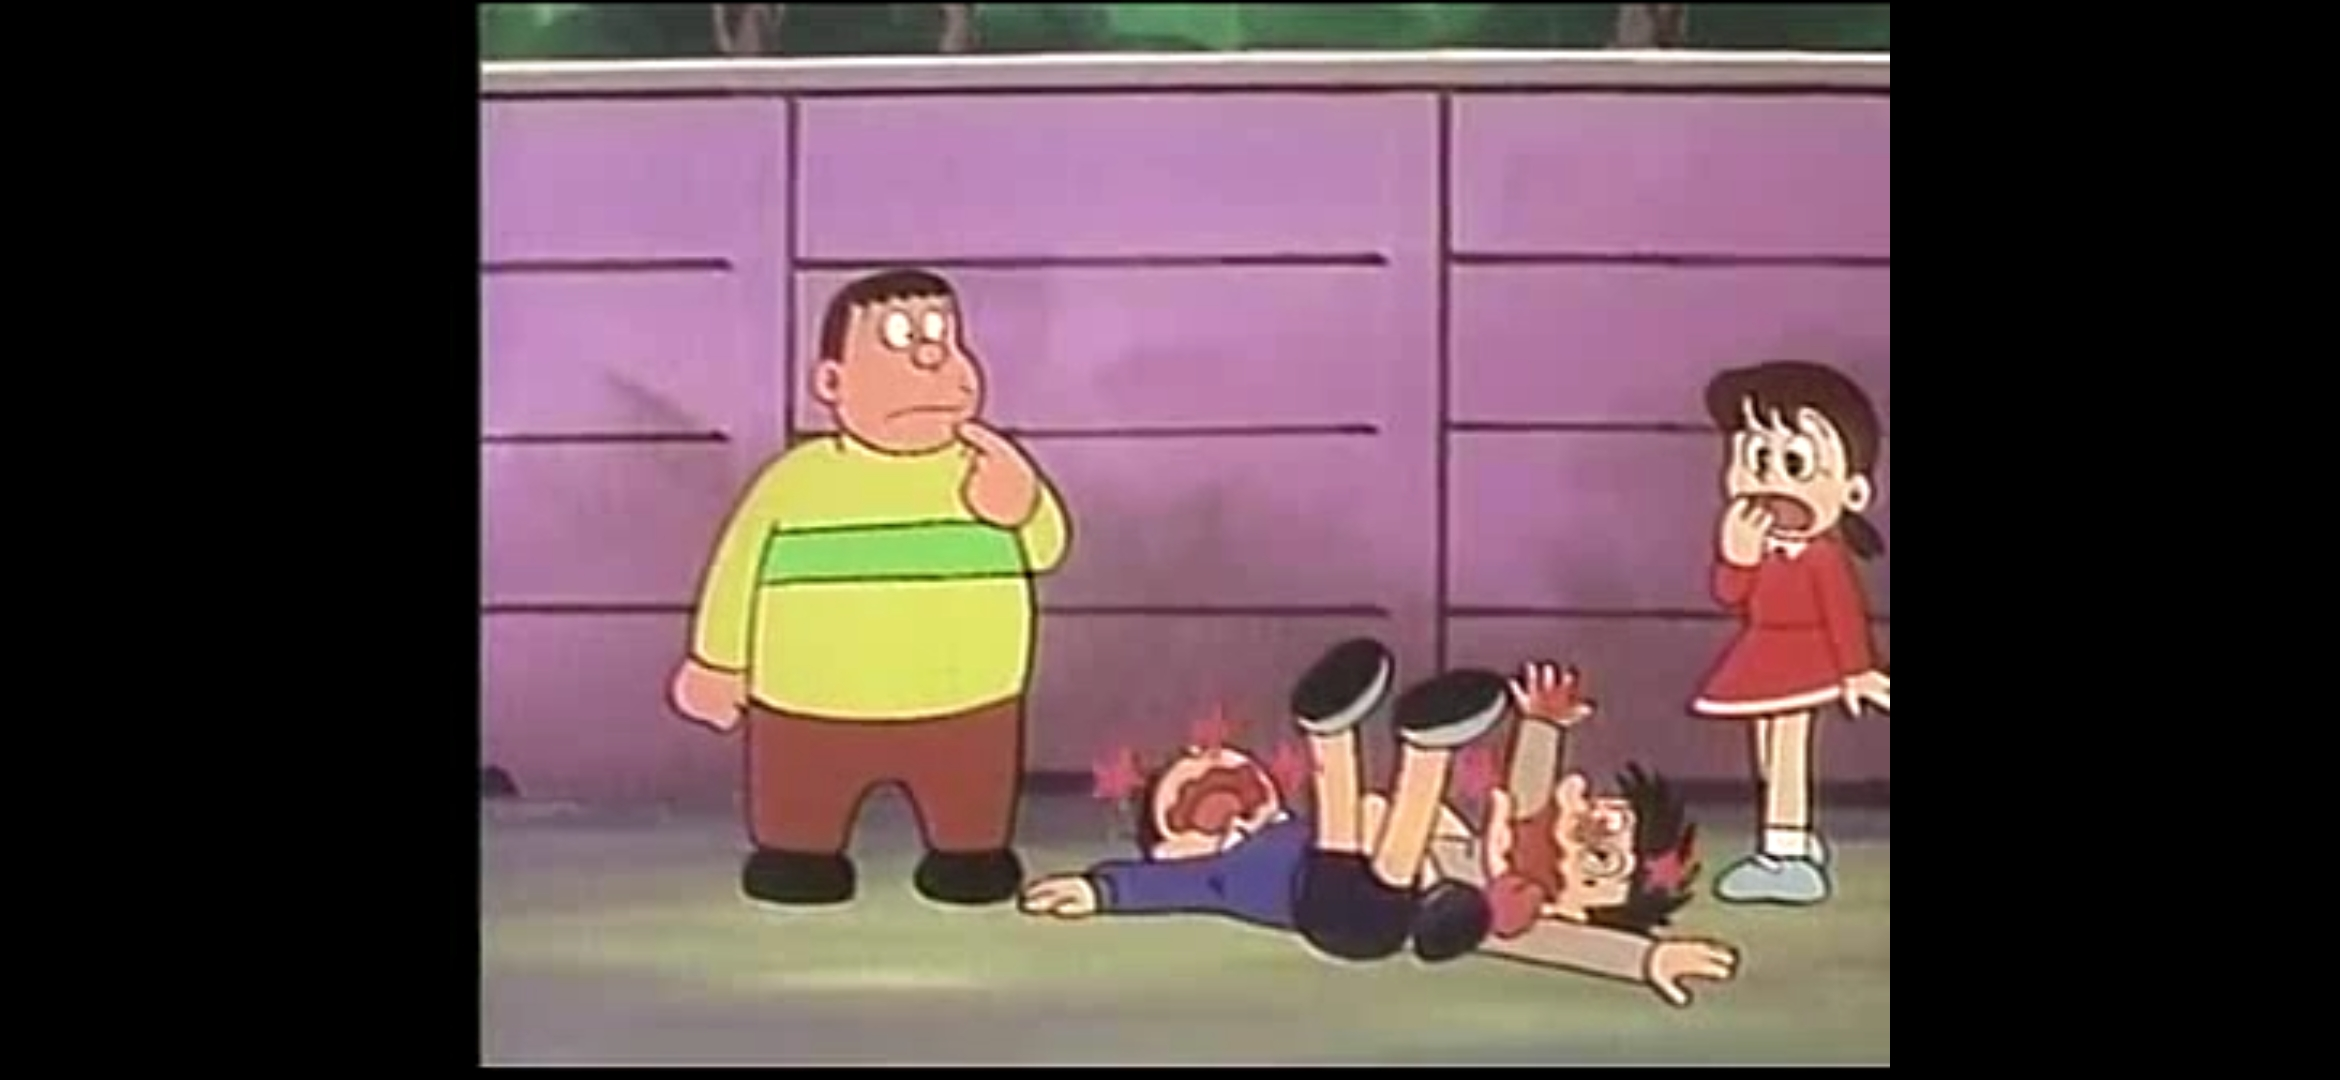Shizuka: (1701, 358, 1877, 539)
Takeshi: (807, 269, 983, 455)
